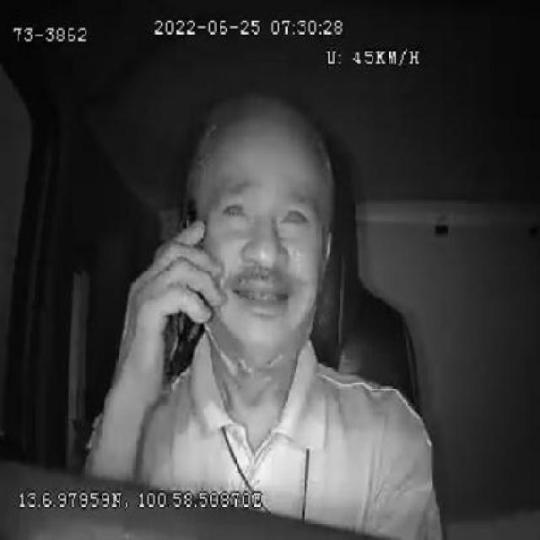phone: (156, 196, 203, 391)
